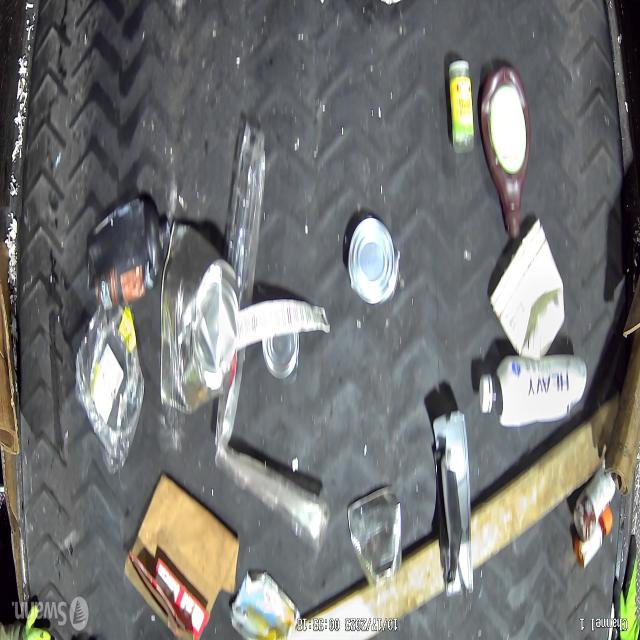can: (160, 221, 238, 416), (348, 486, 402, 587), (346, 212, 399, 308), (262, 330, 299, 380)
non_white_jug: (88, 196, 169, 309), (479, 67, 532, 238)
